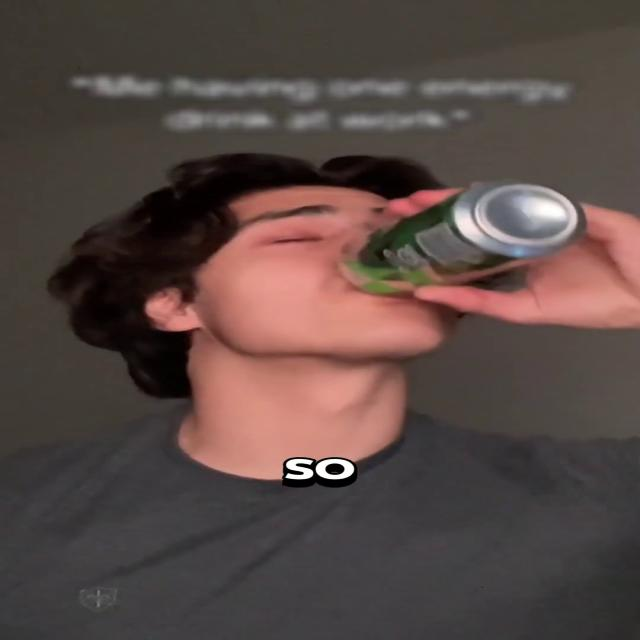Can: (339, 179, 590, 294)
Hand: (382, 183, 640, 339)
Mouth: (336, 270, 434, 302)
